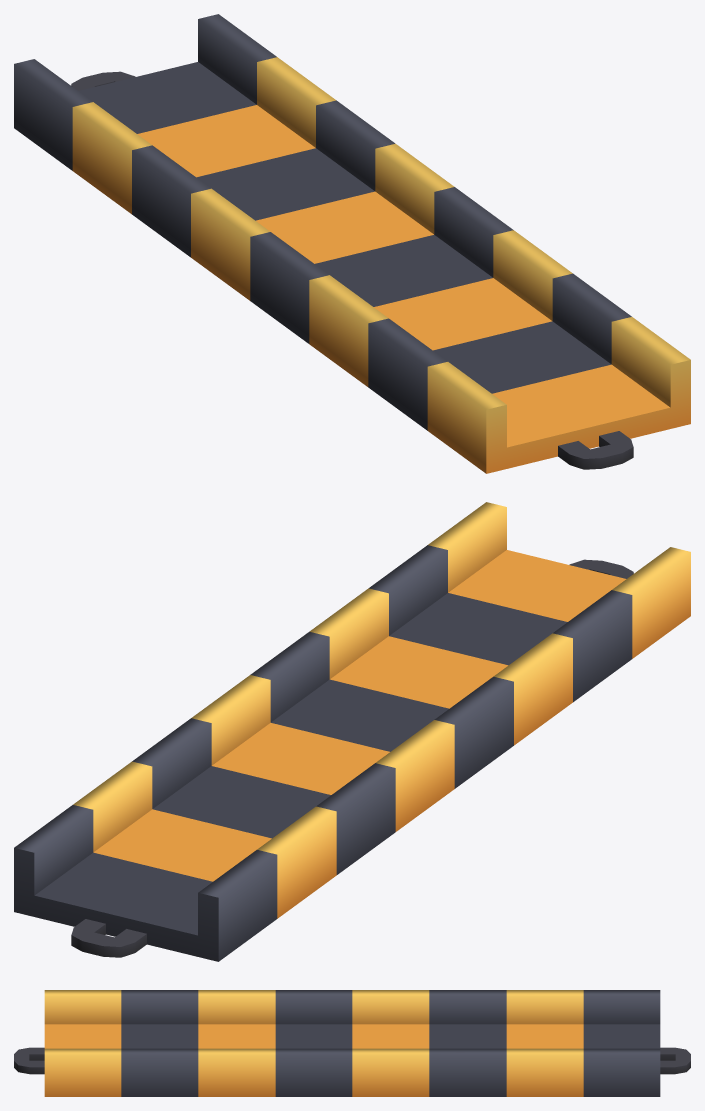
File: track-striped-narrow-straight.fbx
3 renders of one model, top to bottom at view 1: azimuth 30°, elevation 25°; view 2: azimuth 150°, elevation 25°; view 3: azimuth 270°, elevation 25°, orthographic. The views are drawn at different scales.
Visible parts, largest first — view 1: track-striped-narrow-straight; view 2: track-striped-narrow-straight; view 3: track-striped-narrow-straight.
Part boxes in pixels (bbox=[...]): track-striped-narrow-straight: bbox=[14, 14, 690, 473]; track-striped-narrow-straight: bbox=[14, 502, 690, 961]; track-striped-narrow-straight: bbox=[14, 990, 690, 1096].
Size of the model in its own units: 100 by 30 by 440.
